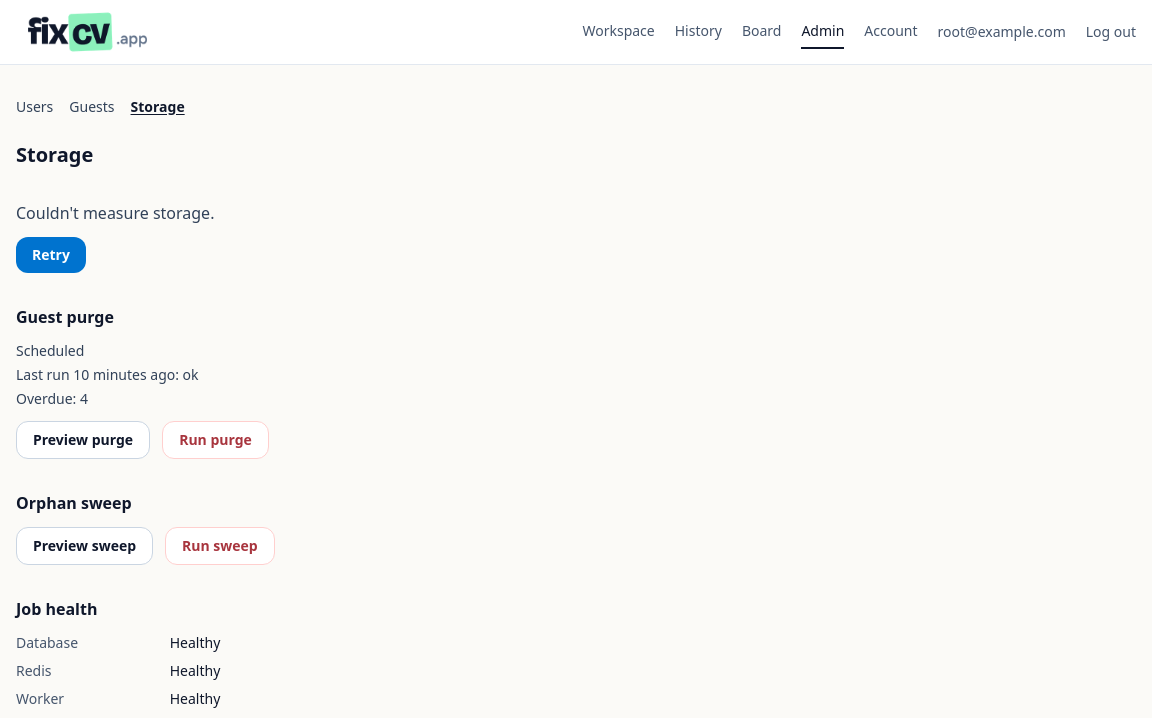
Test: storage — AC-36 › a 503 is an alert with Retry; Retry shows the table
The image size is (1152, 718).
Expected: the text "Couldn't measure storage." is shown, left=16, top=202, right=214, bottom=224
Click the button "Retry" at [51, 255], box left=16, top=237, right=86, bottom=273
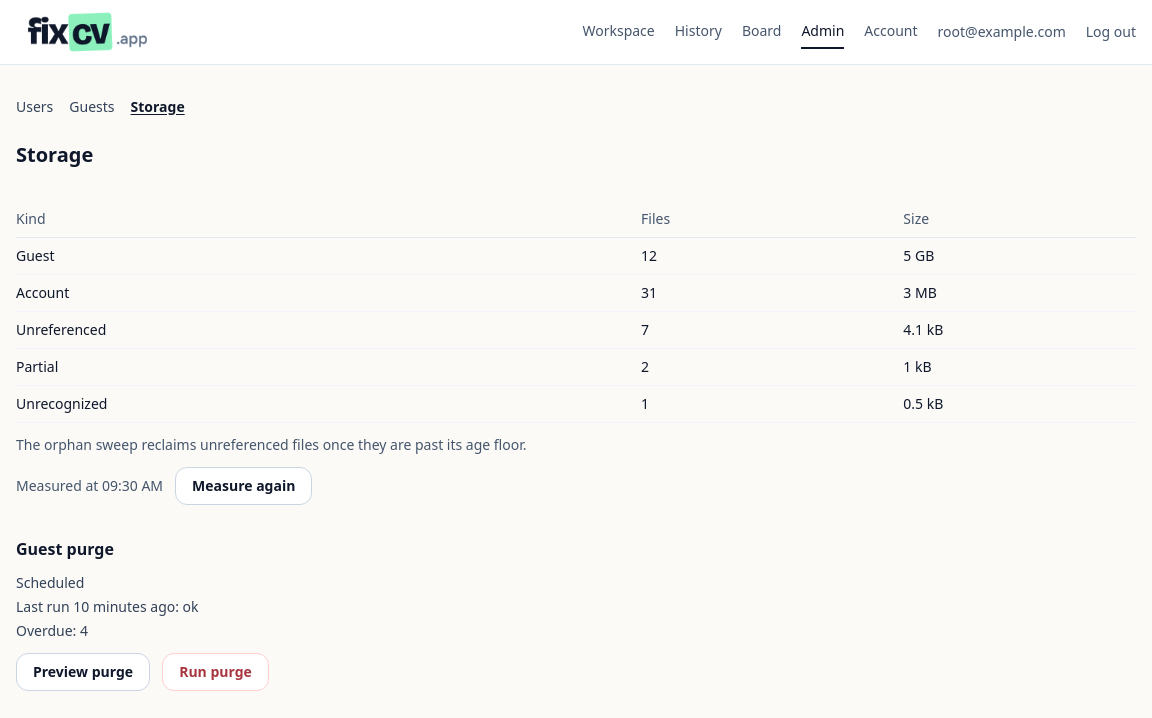
Expected: the table is shown, left=16, top=201, right=1136, bottom=423
